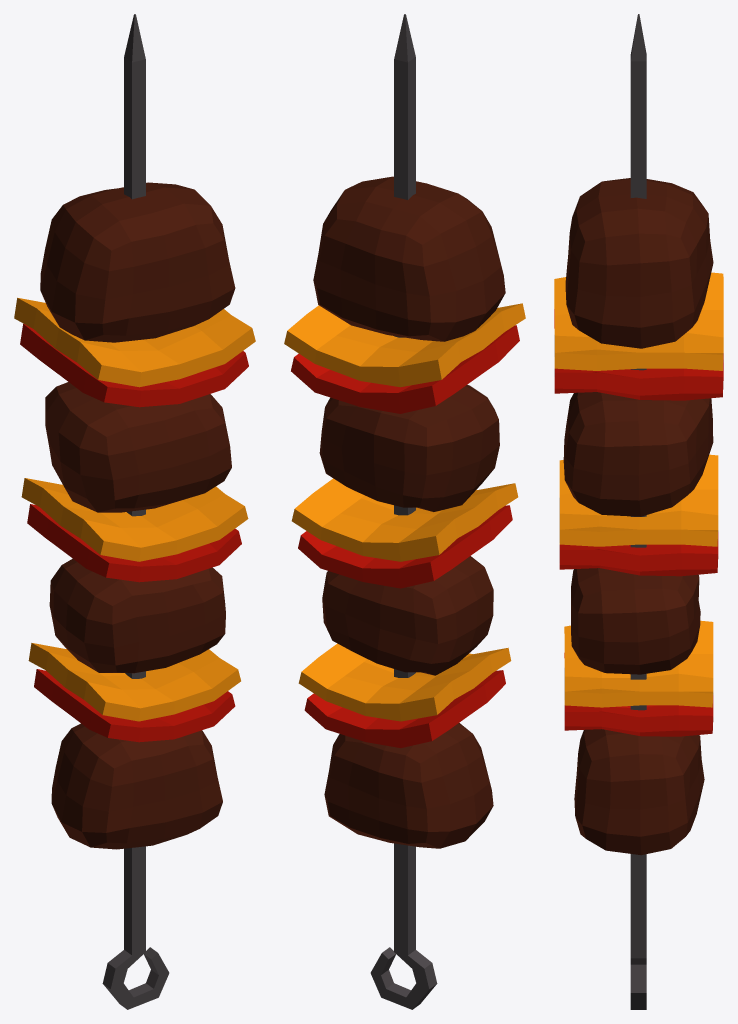
3 renders of one model, left to right at view 1: azimuth 30°, elevation 25°; view 2: azimuth 150°, elevation 25°; view 3: azimuth 270°, elevation 25°, orthographic.
Visible parts, largest first — view 1: brochette; view 2: brochette; view 3: brochette.
Boxes of the visible parts, box(x1,y1,x2,y2) form: brochette: box(14, 14, 255, 1009); brochette: box(284, 14, 525, 1009); brochette: box(554, 14, 723, 1009).
Bounding box in the file's own units: 0.0893 × 0.5191 × 0.0805.
